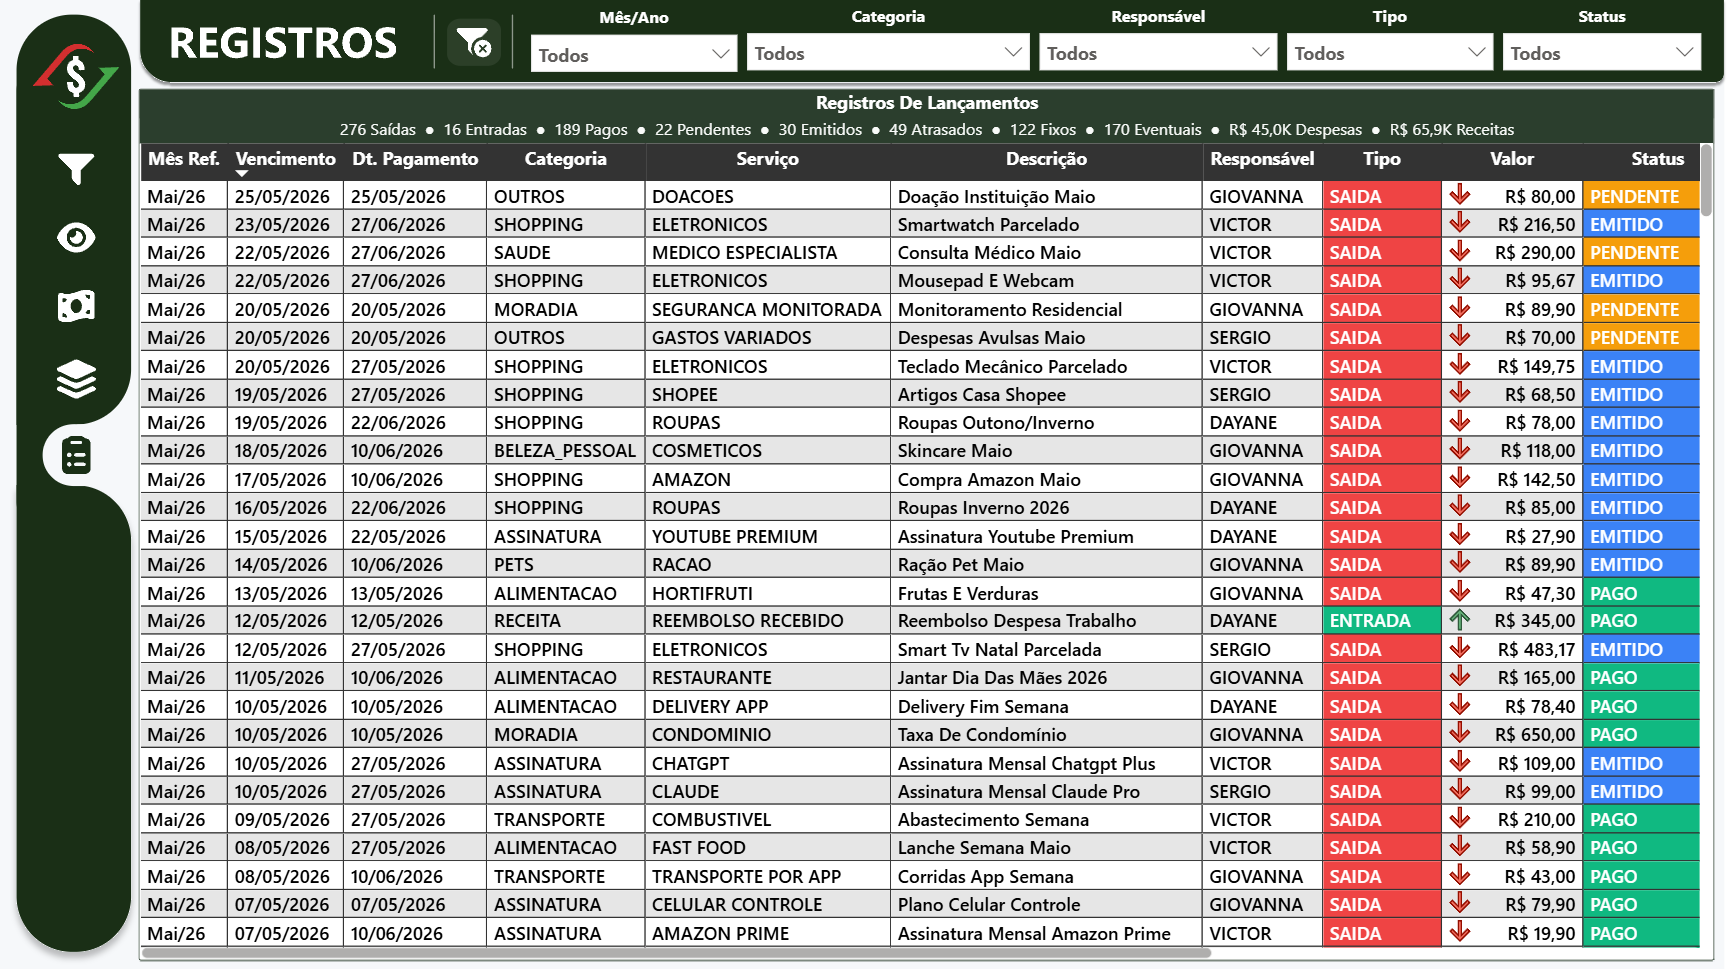

The dashboard page shown, as its layout file describes it:
{"tool":"powerbi","page":{"name":"REGISTROS","canvas":[1280,720],"ordinal":4},"visuals":[{"type":"slicer","title":"Status","fields":{"Values":["Fact_Lancamentos.STATUS"]},"box":[1108.5,3,157.2,60.7],"z":0,"group":"g3"},{"type":"actionButton","title":"btn_registros","box":[36.2,316.9,40,40],"z":0,"group":"g2"},{"type":"slicer","title":"Tipo","fields":{"Values":["Fact_Lancamentos.TIPO"]},"box":[948.6,3.5,163.2,60.7],"z":1000,"group":"g3"},{"type":"actionButton","title":"btn_detalhamento","box":[36.8,261.9,40,40],"z":1000,"group":"g2"},{"type":"group","id":"g1","title":"g_topbar","box":[320,3,945.7,61.4],"z":2000},{"type":"slicer","title":"Responsável","fields":{"Values":["Fact_Lancamentos.RESPONSAVEL"]},"box":[765.3,3,186.6,60.7],"z":2000,"group":"g3"},{"type":"actionButton","title":"btn_lancamentos","box":[36,206.7,40,40],"z":2000,"group":"g2"},{"type":"tableEx","title":"Registros De Lançamentos","fields":{"Values":["Dim_Calendario.MesAnoTexto","Fact_Lancamentos.DATA_EFETIVA","Fact_Lancamentos.DATA_PAGAMENTO","Fact_Lancamentos.CATEGORIA","Fact_Lancamentos.SERVICO","Fact_Lancamentos.DESCRICAO","Fact_Lancamentos.RESPONSAVEL","Fact_Lancamentos.TIPO","Sum(Fact_Lancamentos.VALOR)","Fact_Lancamentos.STATUS","Fact_Lancamentos.METODO_PAGAMENTO","Fact_Lancamentos.CARTAO"]},"box":[103.3,65,1167,646],"z":2250},{"type":"group","id":"g2","title":"g_btn_navegção","box":[23.1,26.7,67.4,330.2],"z":2500},{"type":"slicer","title":"Categoria","fields":{"Values":["Fact_Lancamentos.CATEGORIA"]},"box":[548.5,3,220,60.7],"z":3000,"group":"g3"},{"type":"actionButton","title":"btn_visao_geral","box":[36,155.5,40,40],"z":3000,"group":"g2"},{"type":"slicer","title":"Mês/Ano","fields":{"Values":["Dim_Calendario.MesAnoTexto"]},"box":[388.6,3.7,163.2,60.7],"z":4000,"group":"g3"},{"type":"actionButton","title":"btn_menu_on","box":[36,105,40,40],"z":4000,"group":"g2"},{"type":"group","id":"g3","title":"g_filtros","box":[388.6,3,877.1,61.4],"z":4500,"group":"g1"},{"type":"actionButton","title":"btn_reset_filtros_rapidos","box":[320,6.8,60.1,49.8],"z":5000,"group":"g1"},{"type":"actionButton","title":"btn_home","box":[23.1,26.7,67.4,60.9],"z":5000,"group":"g2"}]}

Visuals, with their boxes in screenshot pixels (x1, y1, x2, y2), scaled from the page's 1280x720 canvas onto the 1727x969 screenshot:
"Status" slicer: [x1=1496, y1=4, x2=1708, y2=86]
"btn_registros" actionButton: [x1=49, y1=426, x2=103, y2=480]
"Tipo" slicer: [x1=1280, y1=5, x2=1500, y2=86]
"btn_detalhamento" actionButton: [x1=50, y1=352, x2=104, y2=406]
"g_topbar" group: [x1=432, y1=4, x2=1708, y2=87]
"Responsável" slicer: [x1=1033, y1=4, x2=1284, y2=86]
"btn_lancamentos" actionButton: [x1=49, y1=278, x2=103, y2=332]
"Registros De Lançamentos" tableEx: [x1=139, y1=87, x2=1714, y2=957]
"g_btn_navegção" group: [x1=31, y1=36, x2=122, y2=480]
"Categoria" slicer: [x1=740, y1=4, x2=1037, y2=86]
"btn_visao_geral" actionButton: [x1=49, y1=209, x2=103, y2=263]
"Mês/Ano" slicer: [x1=524, y1=5, x2=744, y2=87]
"btn_menu_on" actionButton: [x1=49, y1=141, x2=103, y2=195]
"g_filtros" group: [x1=524, y1=4, x2=1708, y2=87]
"btn_reset_filtros_rapidos" actionButton: [x1=432, y1=9, x2=513, y2=76]
"btn_home" actionButton: [x1=31, y1=36, x2=122, y2=118]
